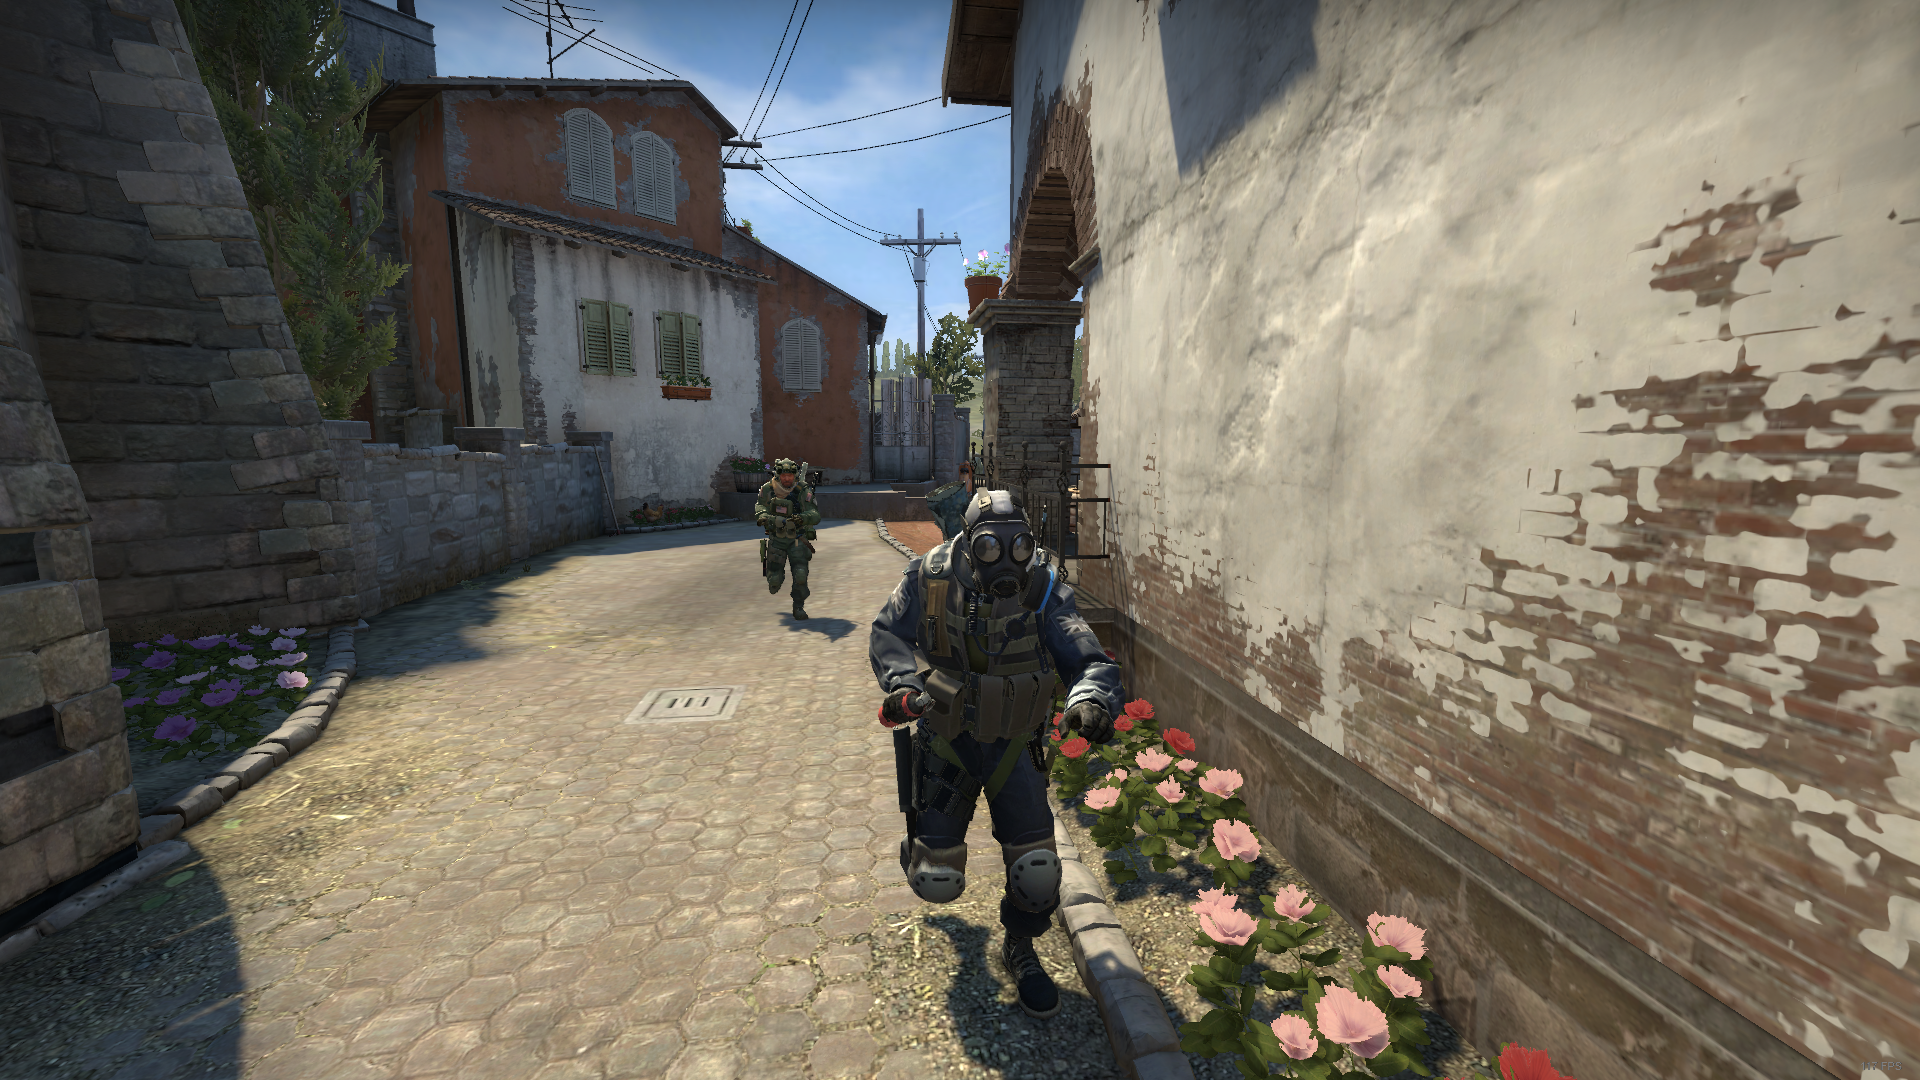ct: (861, 488, 1139, 1022)
